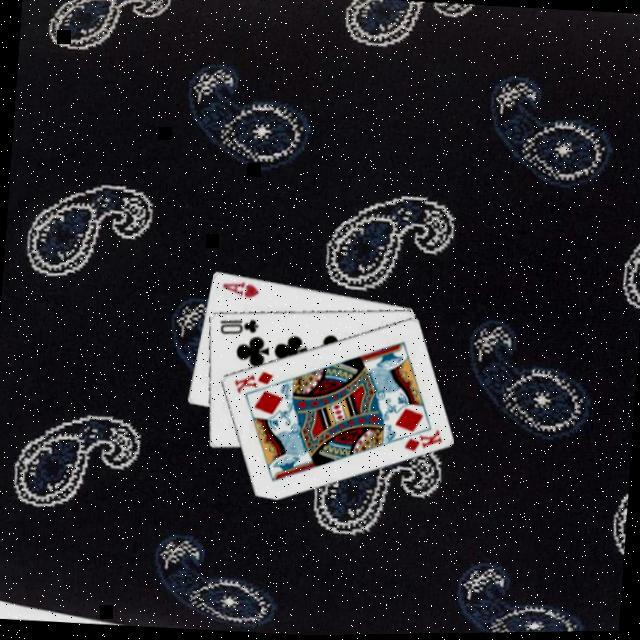10C: (217, 314, 262, 340)
AH: (220, 278, 262, 302)
KD: (231, 367, 277, 400), (401, 425, 447, 458)
